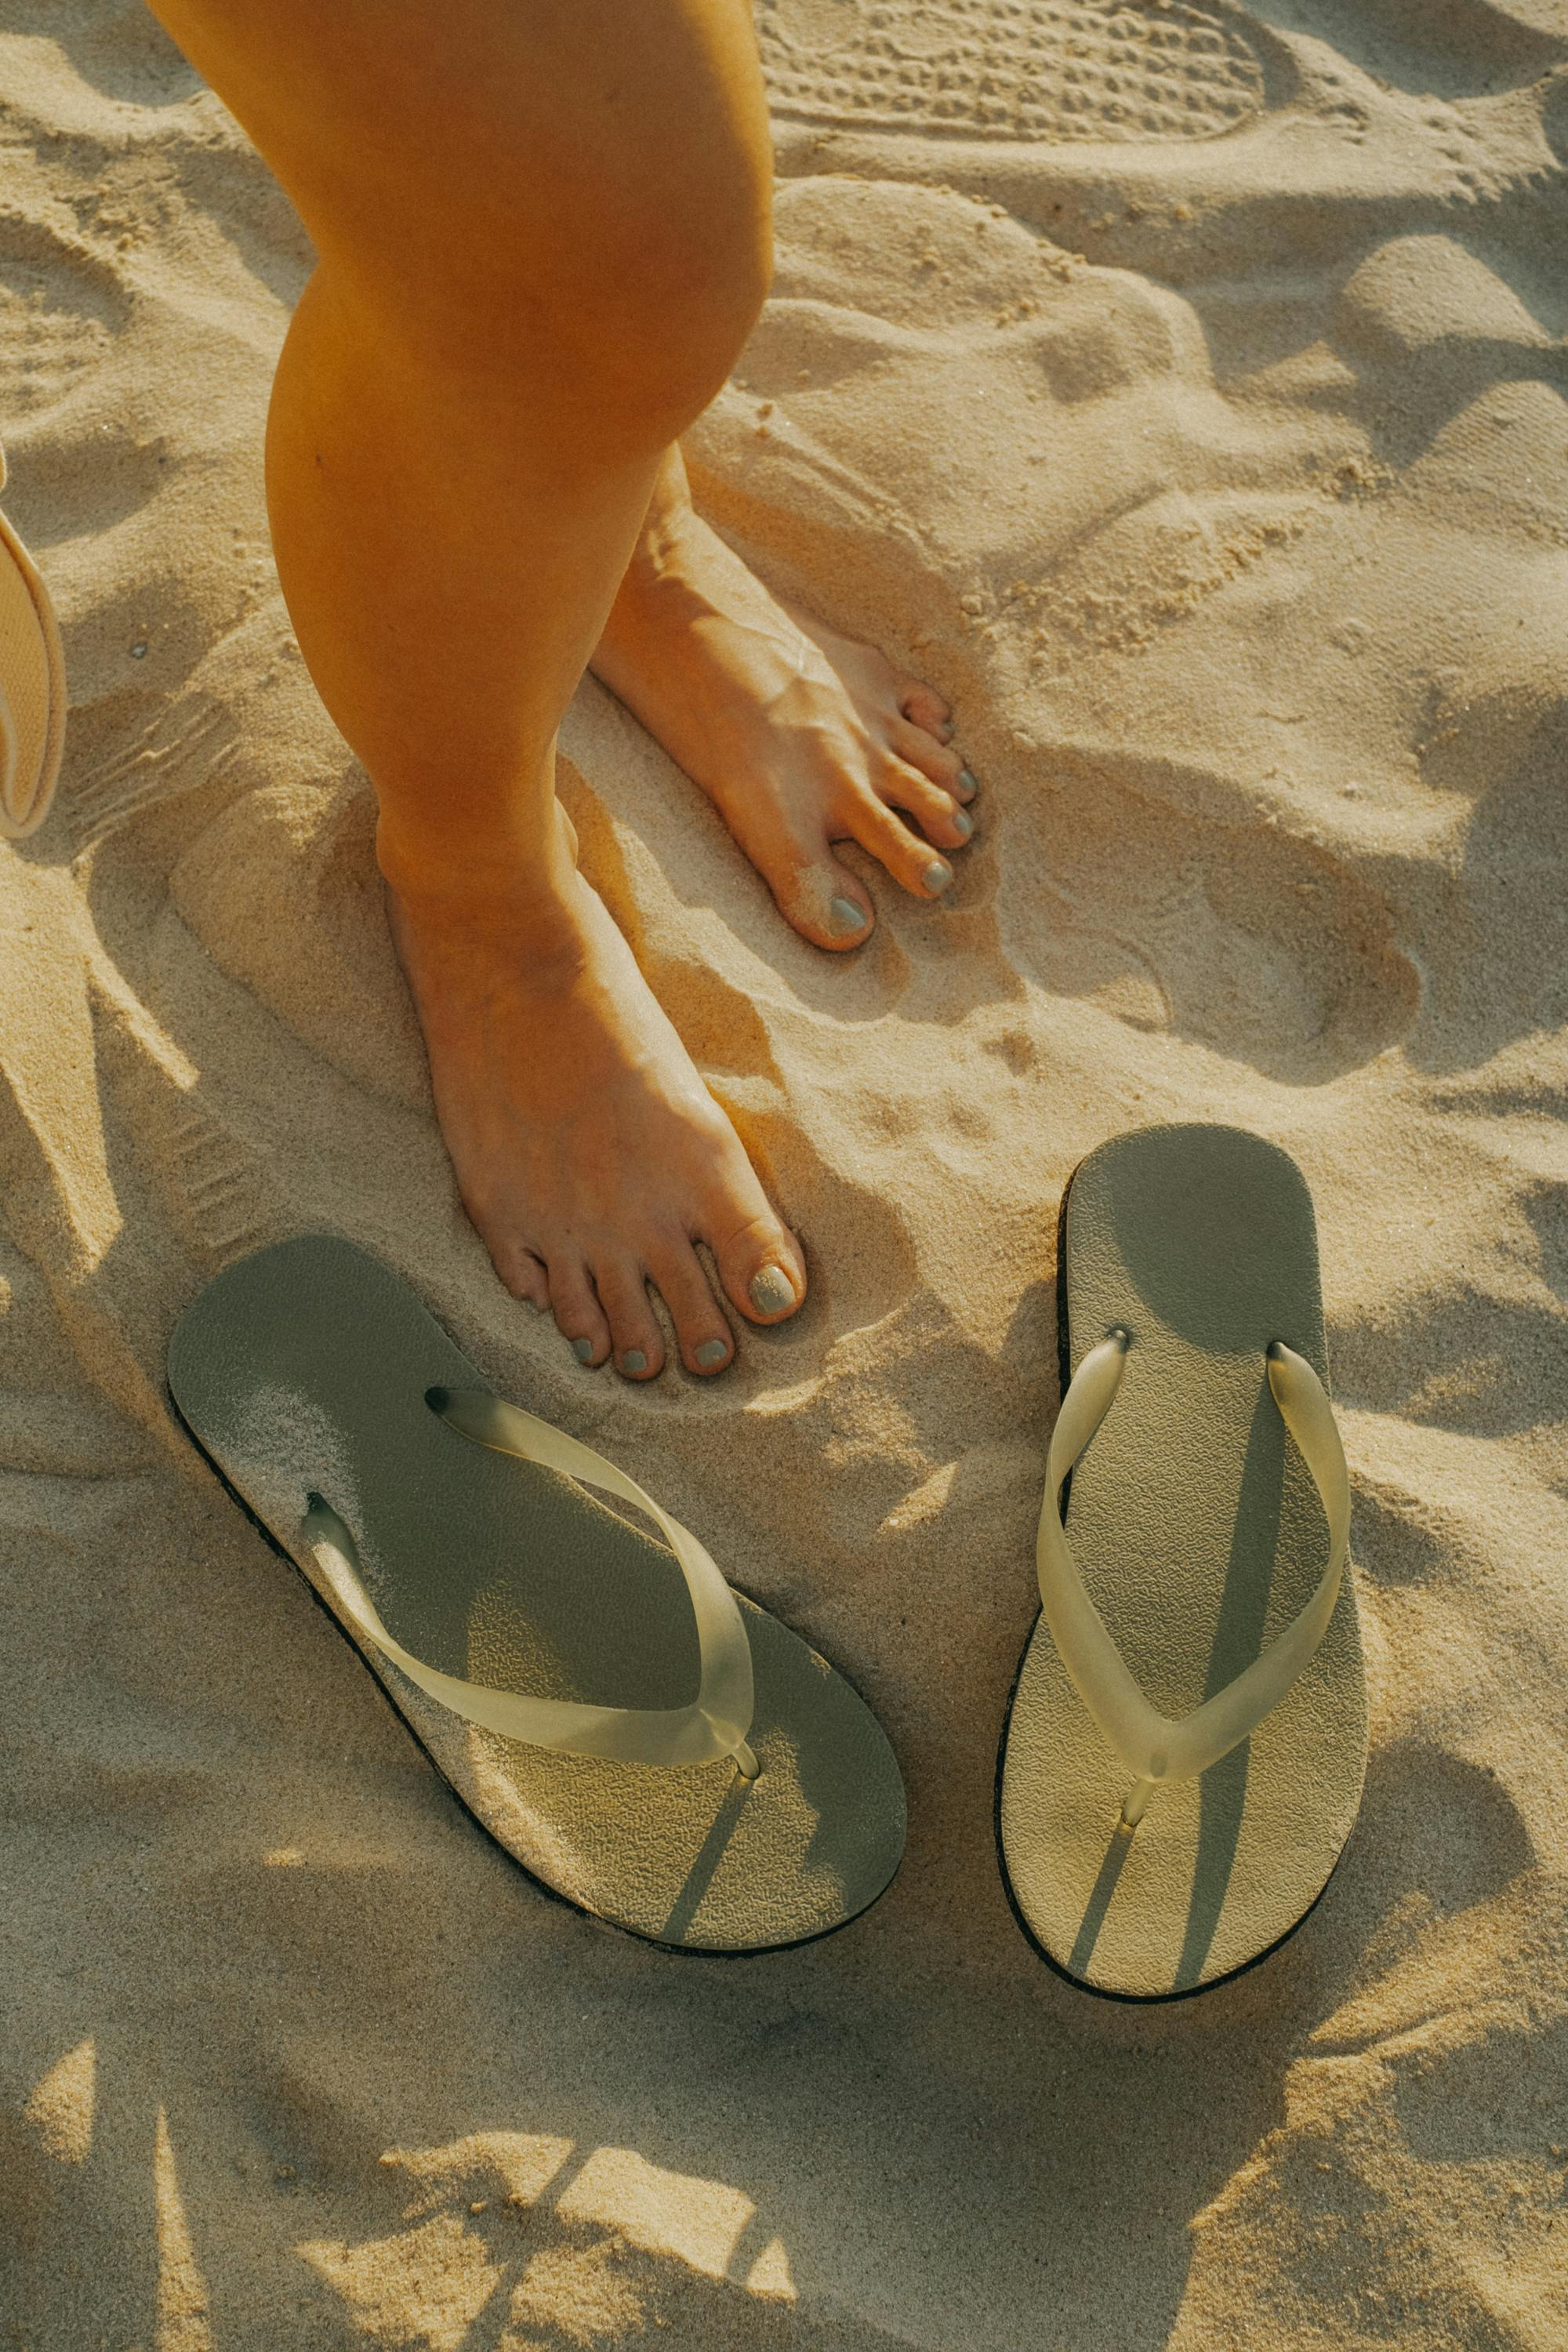Footwear: (122, 1232, 938, 1995), (959, 1090, 1412, 2077)
